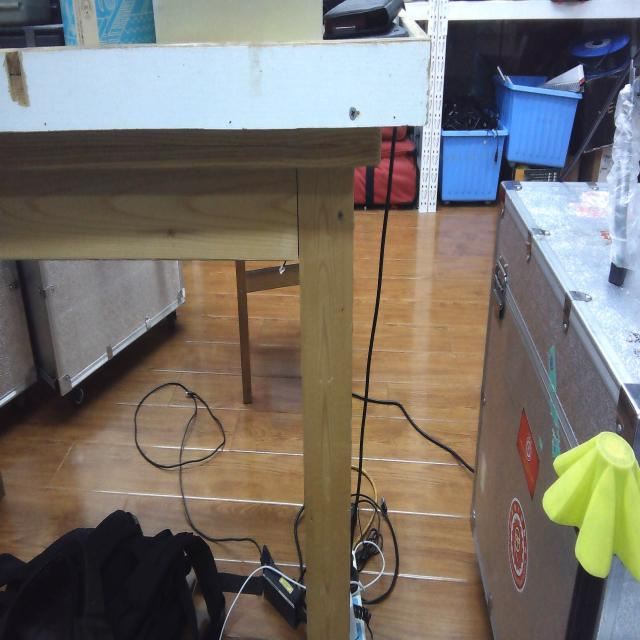Yellow-Stake-Head: (542, 431, 640, 582)
